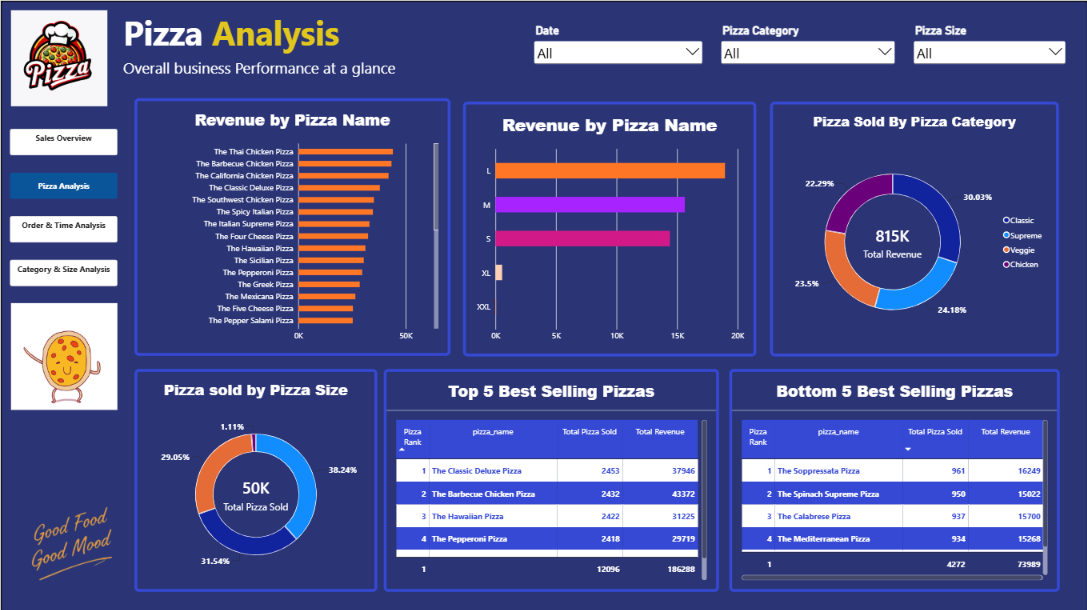

This screenshot's page, from the dashboard's own definition file:
{"tool":"powerbi","page":{"name":"Pizza Analysis","canvas":[1920,1080],"ordinal":1},"visuals":[{"type":"image","box":[18.8,15.1,170,170.8],"z":0},{"type":"textbox","box":[215,15,470.3,78.4],"z":1000},{"type":"textbox","box":[215,100,512.9,38.8],"z":2000},{"type":"clusteredBarChart","title":"Revenue by Pizza Name","fields":{"Category":["Dim_Pizza.pizza_name"],"Y":["Measure.Total Revenue"]},"box":[235,172.5,557.5,455],"z":3000},{"type":"clusteredBarChart","title":"Revenue by Pizza Name","fields":{"Category":["Dim_Pizza.pizza_size"],"Y":["Measure.Total Pizza Sold"]},"box":[815,177.5,517.5,450],"z":4000},{"type":"donutChart","title":"Pizza Sold By Pizza Category","fields":{"Category":["Dim_Pizza.pizza_category"],"Y":["Measure.Total Pizza Sold"]},"box":[1357.5,177.5,510,450],"z":5000},{"type":"tableEx","title":"Bottom 5 Best Selling Pizzas","fields":{"Values":["Measure.Pizza Rank","Dim_Pizza.pizza_name","Measure.Total Pizza Sold","Measure.Total Revenue"]},"box":[1285,650,583.3,393.3],"z":6000},{"type":"tableEx","title":"Top 5 Best Selling Pizzas","fields":{"Values":["Measure.Pizza Rank","Dim_Pizza.pizza_name","Measure.Total Pizza Sold","Measure.Total Revenue"]},"box":[675,650,591.7,393.3],"z":7000},{"type":"donutChart","title":"Pizza sold by Pizza Size","fields":{"Category":["Dim_Pizza.pizza_size"],"Y":["Measure.Total Pizza Sold"]},"box":[235,650,428.3,393.3],"z":8000},{"type":"slicer","fields":{"Values":["Dim_Pizza.pizza_size"]},"box":[1606.7,26.7,278.8,103.8],"z":9000},{"type":"slicer","fields":{"Values":["Dim_Pizza.pizza_category"]},"box":[1266.7,26.7,317.5,120],"z":10000},{"type":"slicer","fields":{"Values":["Dim_Date.Year Hierarchy.Year","Dim_Date.Year Hierarchy.Start of Quarter","Dim_Date.Year Hierarchy.Start of Month","Dim_Date.Year Hierarchy.Start of Week","Dim_Date.Year Hierarchy.Day Name","Dim_Date.Year Hierarchy.Month Name"]},"box":[936.7,26.7,307.8,92.2],"z":11000},{"type":"pageNavigator","box":[15,225,190,280],"z":12000},{"type":"image","box":[18,528,188,200],"z":13000},{"type":"image","box":[0,846,236,234],"z":14000}]}

Visuals, with their boxes in screenshot pixels (x1, y1, x2, y2), scaled from the page's 1920x1080 canvas onto the 1087x610 screenshot:
image: (left=11, top=9, right=107, bottom=105)
textbox: (left=122, top=8, right=388, bottom=53)
textbox: (left=122, top=56, right=412, bottom=78)
"Revenue by Pizza Name" clusteredBarChart: (left=133, top=97, right=449, bottom=354)
"Revenue by Pizza Name" clusteredBarChart: (left=461, top=100, right=754, bottom=354)
"Pizza Sold By Pizza Category" donutChart: (left=769, top=100, right=1057, bottom=354)
"Bottom 5 Best Selling Pizzas" tableEx: (left=727, top=367, right=1058, bottom=589)
"Top 5 Best Selling Pizzas" tableEx: (left=382, top=367, right=717, bottom=589)
"Pizza sold by Pizza Size" donutChart: (left=133, top=367, right=376, bottom=589)
slicer - Dim_Pizza.pizza_size: (left=910, top=15, right=1067, bottom=74)
slicer - Dim_Pizza.pizza_category: (left=717, top=15, right=897, bottom=83)
slicer - Dim_Date.Year Hierarchy.Year x Dim_Date.Year Hierarchy.Start of Quarter: (left=530, top=15, right=705, bottom=67)
pageNavigator: (left=8, top=127, right=116, bottom=285)
image: (left=10, top=298, right=117, bottom=411)
image: (left=0, top=478, right=134, bottom=609)
